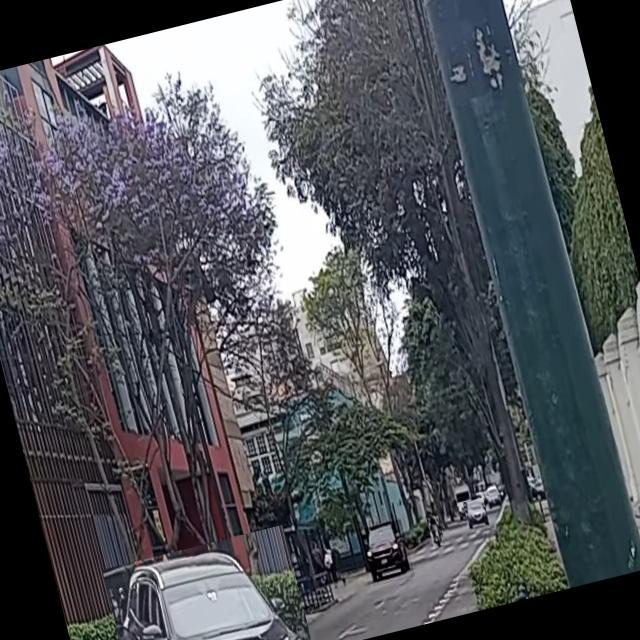car: (102, 524, 314, 640), (358, 518, 414, 586), (462, 497, 490, 530)
motorcycle: (425, 512, 445, 546)
